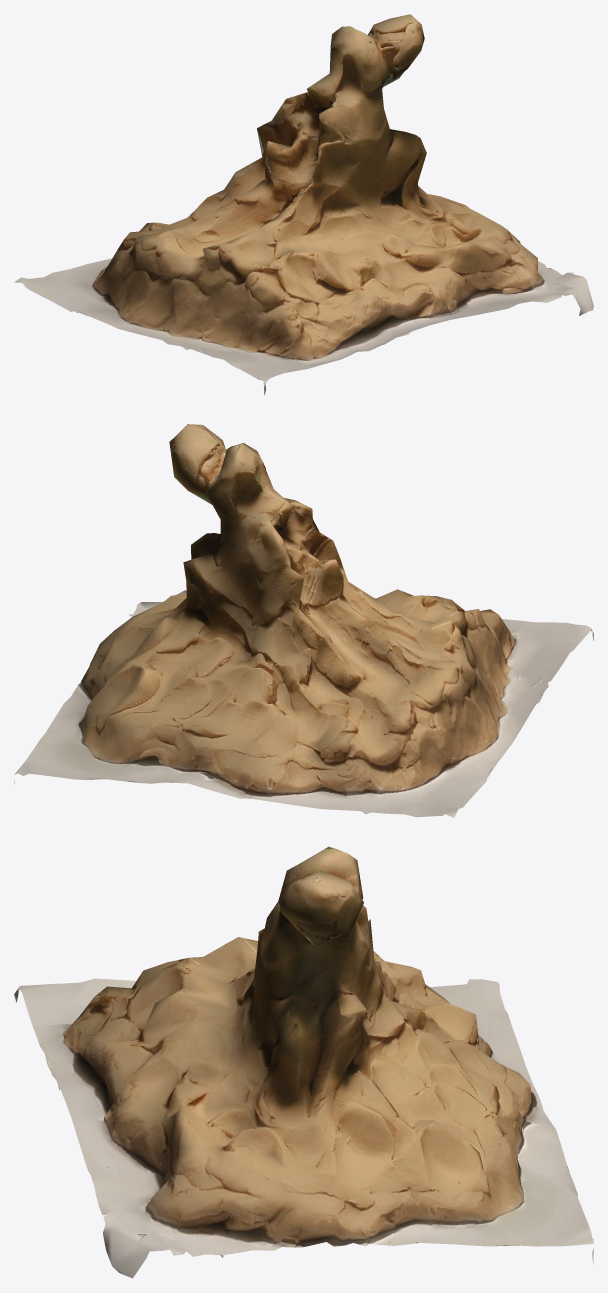
The model's file is GPGre_MamanLOD13.fbx.
3 views of the same model, one above another, from view 1: azimuth 30°, elevation 25°; view 2: azimuth 150°, elevation 25°; view 3: azimuth 270°, elevation 25° (orthographic). The views are drawn at different scales.
Parts seen in each view (by area): view 1: Model; view 2: Model; view 3: Model.
Boxes of the visible parts, x1,y1,x2,y2 form: Model: [14, 14, 593, 394]; Model: [14, 424, 593, 817]; Model: [14, 846, 593, 1278].
Size of the model in its own units: 2.34 by 1.45 by 2.15.
